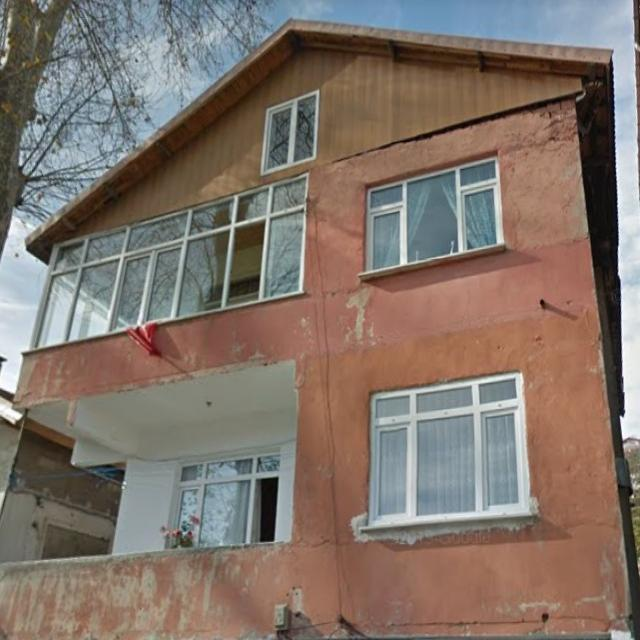Building: (0, 18, 640, 640)
